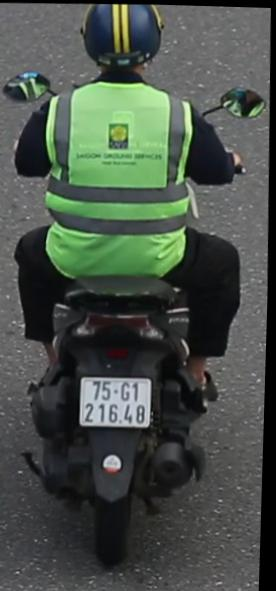LP: (79, 368, 159, 433)
helmet: (77, 2, 166, 91)
